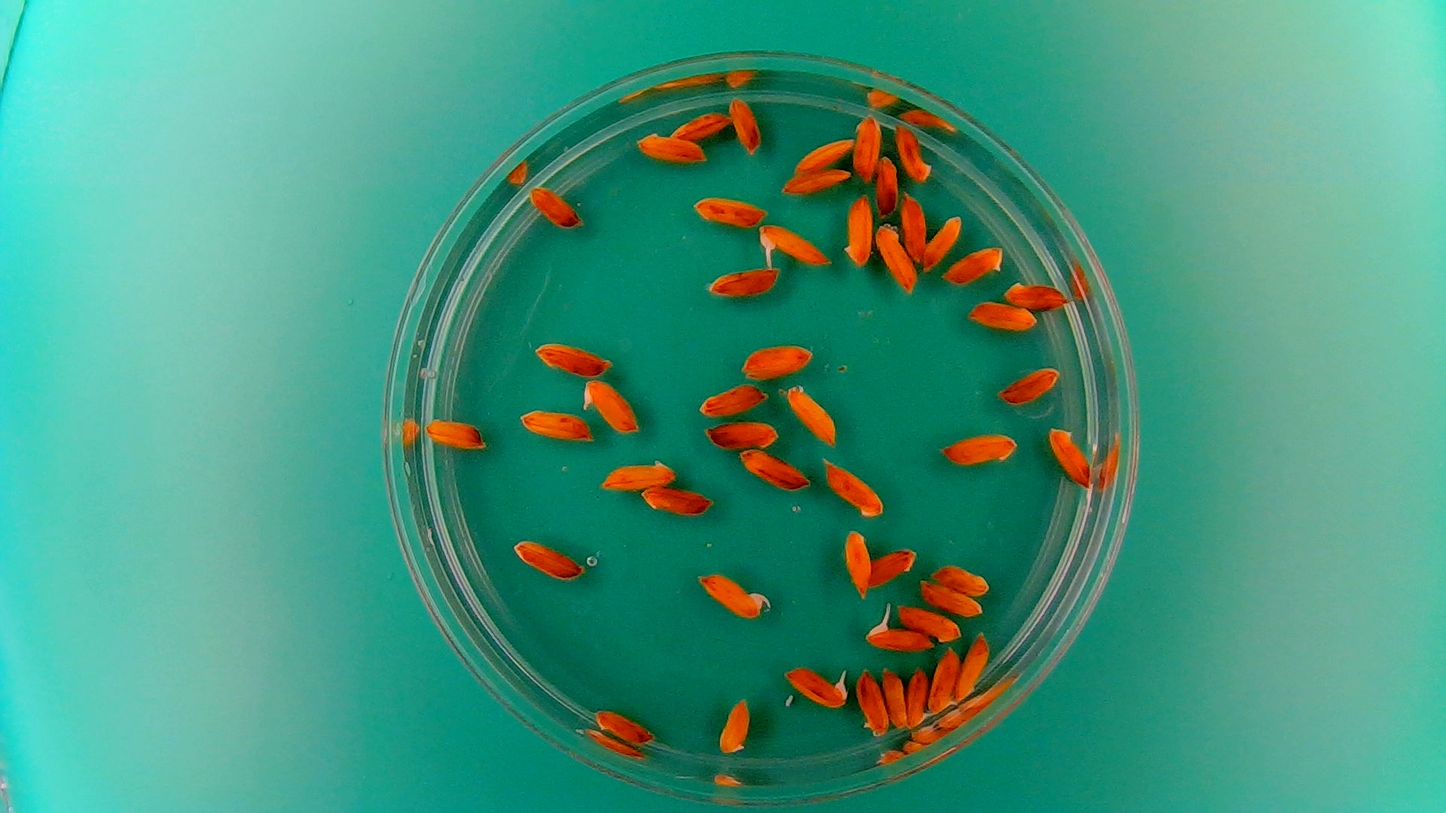no: (820, 456, 887, 520), (782, 380, 840, 448), (509, 534, 586, 581), (737, 446, 811, 492), (1045, 422, 1094, 490), (872, 221, 917, 295), (532, 337, 615, 377), (595, 454, 680, 492), (938, 429, 1019, 468), (689, 193, 772, 231), (738, 339, 816, 379), (632, 126, 708, 167), (953, 627, 993, 703), (703, 262, 782, 300), (516, 405, 595, 443), (525, 181, 586, 230), (695, 380, 770, 419), (701, 416, 780, 452), (939, 241, 1004, 284), (995, 363, 1061, 405), (789, 133, 855, 175), (941, 242, 1005, 285), (853, 665, 890, 739), (639, 483, 715, 519), (917, 577, 984, 617), (841, 190, 875, 268), (964, 298, 1039, 333), (898, 603, 962, 644), (892, 122, 934, 184), (922, 212, 965, 272), (423, 413, 490, 451), (592, 707, 657, 746), (925, 644, 960, 714), (726, 93, 764, 157), (779, 164, 853, 196), (898, 190, 929, 266), (851, 111, 883, 184), (715, 694, 752, 757), (668, 108, 732, 144), (929, 559, 992, 595), (868, 544, 918, 589), (1001, 277, 1069, 310), (841, 525, 871, 598), (881, 663, 910, 729), (874, 152, 901, 219), (905, 664, 931, 728)
yes: (694, 568, 771, 620), (754, 221, 832, 269), (580, 376, 641, 434), (780, 662, 849, 710), (856, 621, 938, 654)
